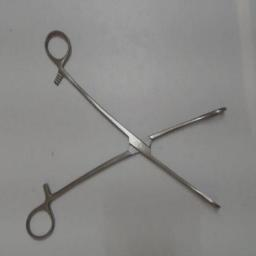Sponge Forceps: (22, 26, 234, 246)
